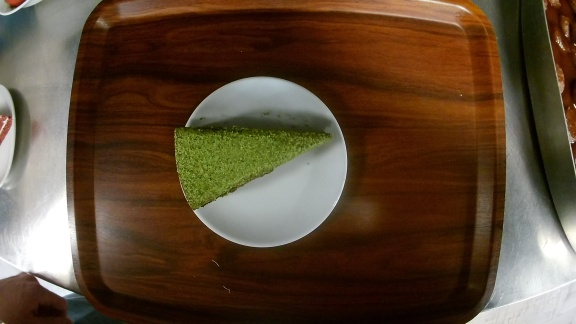fistiklipasta: (174, 75, 349, 248)
